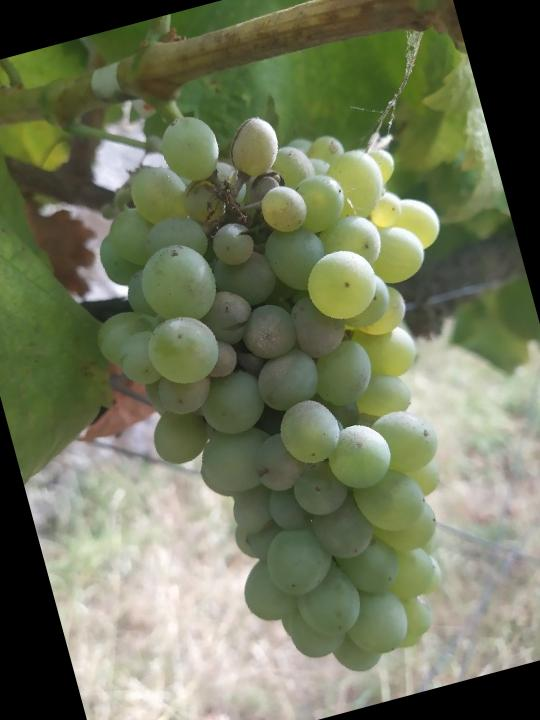grape: (43, 58, 540, 717)
